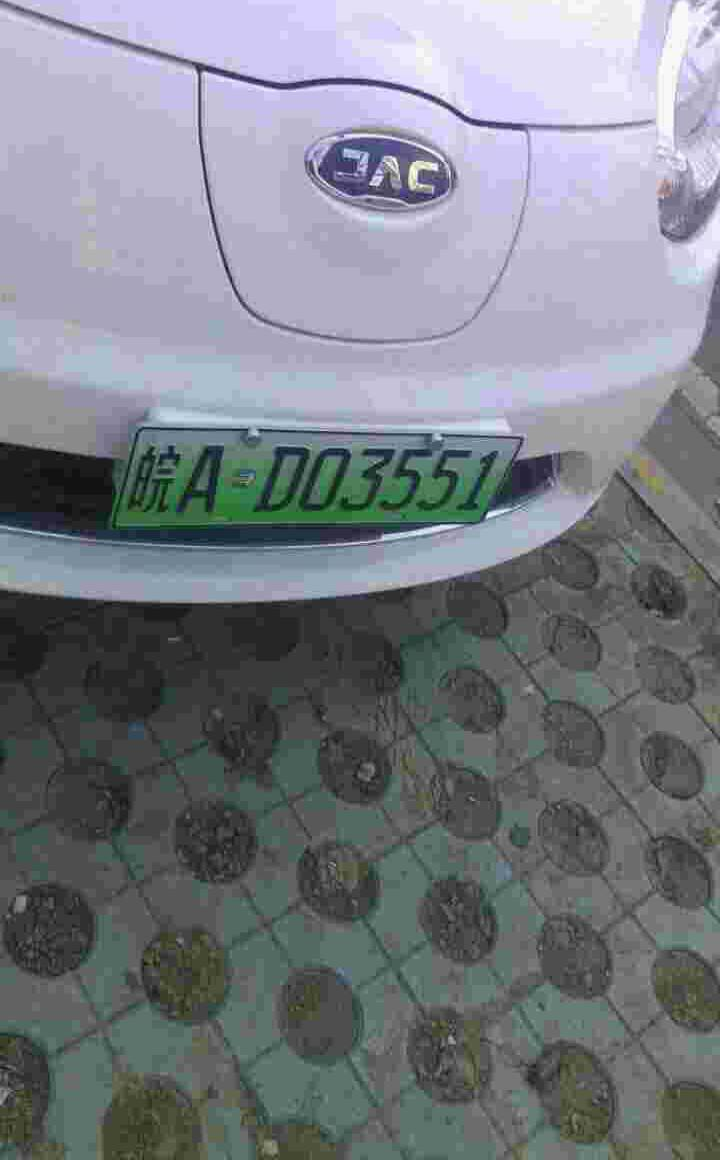car_id: (109, 427, 524, 526)
